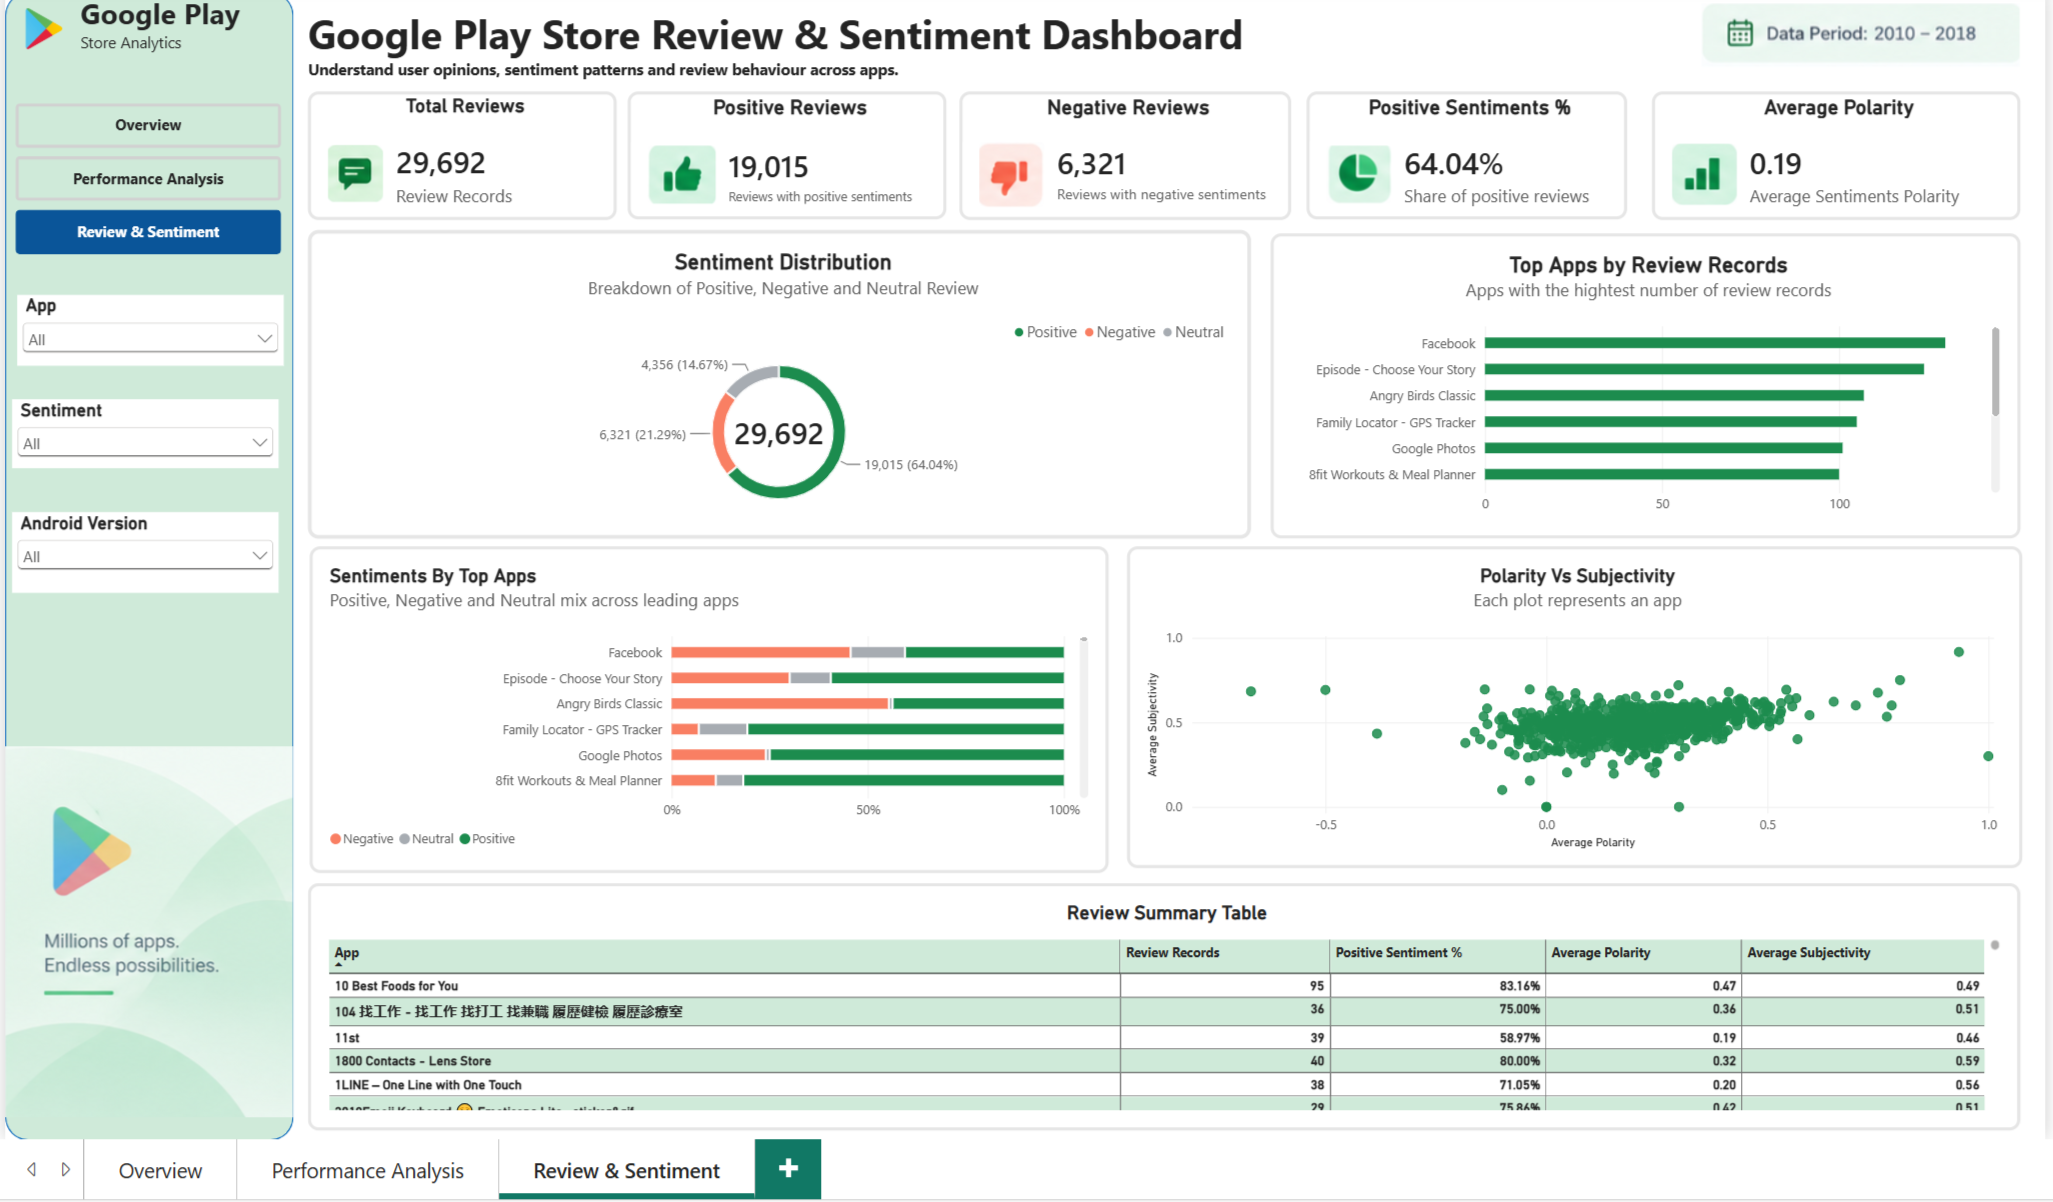

This screenshot's page, from the dashboard's own definition file:
{"tool":"powerbi","page":{"name":"Review & Sentiment","canvas":[1920,1080],"ordinal":2},"visuals":[{"type":"shape","box":[0,0,271.4,1080.7],"z":0},{"type":"image","box":[12.7,12.7,47.6,42.8],"z":1000},{"type":"textbox","box":[71.4,1.6,174.6,66.6],"z":2000},{"type":"textbox","box":[284.9,12.9,919,80.5],"z":3000},{"type":"cardVisual","title":"Total Reviews","fields":{"Data":["Google_Play_Store_Reviews.Review Records"]},"box":[285.6,93.6,290.6,120.9],"z":4000},{"type":"cardVisual","title":"Average Polarity","fields":{"Data":["Google_Play_Store_Reviews.Average Polarity"]},"box":[1550.4,93.6,346.5,120.9],"z":5000},{"type":"cardVisual","title":"Positive Sentiments %","fields":{"Data":["Google_Play_Store_Reviews.Positive Sentiment %"]},"box":[1225.1,93.6,301.5,120.6],"z":6000},{"type":"cardVisual","title":"Positive Reviews","fields":{"Data":["Google_Play_Store_Reviews.Positive Reviews"]},"box":[585.6,93.6,299.9,120.6],"z":7000},{"type":"cardVisual","title":"Negative Reviews","fields":{"Data":["Google_Play_Store_Reviews.Negative Reviews"]},"box":[898.2,93.6,312.2,120.9],"z":8000},{"type":"donutChart","title":"Sentiment Distribution","fields":{"Category":["Google_Play_Store_Reviews.Sentiment"],"Y":["Google_Play_Store_Reviews.Review Records"]},"box":[285.6,223.7,887.9,290.5],"z":9000},{"type":"barChart","title":"Top Apps by Review Records","fields":{"Category":["DimApp.App"],"Y":["Google_Play_Store_Reviews.Review Records"]},"box":[1191.7,226.9,705.6,286.9],"z":10000},{"type":"image","box":[0,691.2,270.7,388],"z":11000},{"type":"slicer","fields":{"Values":["Google_Play_Store_Apps.Android_Ver"]},"box":[7.2,489.1,250.8,75.8],"z":13000},{"type":"image","box":[1597.1,0,299.6,81.2],"z":14000},{"type":"hundredPercentStackedBarChart","title":"Sentiments By Top Apps","fields":{"Category":["DimApp.App"],"Series":["Google_Play_Store_Reviews.Sentiment"],"Y":["Google_Play_Store_Reviews.Review Records"]},"box":[287.2,522.1,752.2,307.8],"z":15000},{"type":"scatterChart","title":"Polarity Vs Subjectivity","fields":{"Category":["DimApp.App"],"X":["Google_Play_Store_Reviews.Average Polarity"],"Y":["Google_Play_Store_Reviews.Average Subjectivity"]},"box":[1055.3,522.1,842.8,303.2],"z":16000},{"type":"tableEx","title":"Review Summary Table","fields":{"Values":["DimApp.App","Google_Play_Store_Reviews.Review Records","Google_Play_Store_Reviews.Positive Sentiment %","Google_Play_Store_Reviews.Average Polarity","Google_Play_Store_Reviews.Average Subjectivity"]},"box":[285.1,839.2,1611.6,232.8],"z":17000},{"type":"slicer","fields":{"Values":["DimApp.App"]},"box":[11.3,284.9,250.7,66.6],"z":18000},{"type":"slicer","fields":{"Values":["Google_Play_Store_Reviews.Sentiment"]},"box":[7.2,382.6,250.8,65],"z":19000},{"type":"pageNavigator","box":[9,104.7,250.8,142.6],"z":19001}]}

Visuals, with their boxes on the page's 1920x1080 design canvas (x1, y1, x2, y2). These are canvas units, not pixel positions in the 2053x1202 screenshot, which may show the page scaled, cropped or inside an application window:
shape: [0, 0, 271, 1081]
image: [13, 13, 60, 56]
textbox: [71, 2, 246, 68]
textbox: [285, 13, 1204, 93]
"Total Reviews" cardVisual: [286, 94, 576, 214]
"Average Polarity" cardVisual: [1550, 94, 1897, 214]
"Positive Sentiments %" cardVisual: [1225, 94, 1527, 214]
"Positive Reviews" cardVisual: [586, 94, 886, 214]
"Negative Reviews" cardVisual: [898, 94, 1210, 214]
"Sentiment Distribution" donutChart: [286, 224, 1174, 514]
"Top Apps by Review Records" barChart: [1192, 227, 1897, 514]
image: [0, 691, 271, 1079]
slicer - Google_Play_Store_Apps.Android_Ver: [7, 489, 258, 565]
image: [1597, 0, 1897, 81]
"Sentiments By Top Apps" hundredPercentStackedBarChart: [287, 522, 1039, 830]
"Polarity Vs Subjectivity" scatterChart: [1055, 522, 1898, 825]
"Review Summary Table" tableEx: [285, 839, 1897, 1072]
slicer - DimApp.App: [11, 285, 262, 352]
slicer - Google_Play_Store_Reviews.Sentiment: [7, 383, 258, 448]
pageNavigator: [9, 105, 260, 247]
